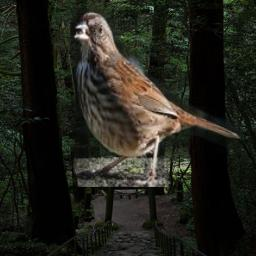Sparrow: (70, 6, 242, 187)
